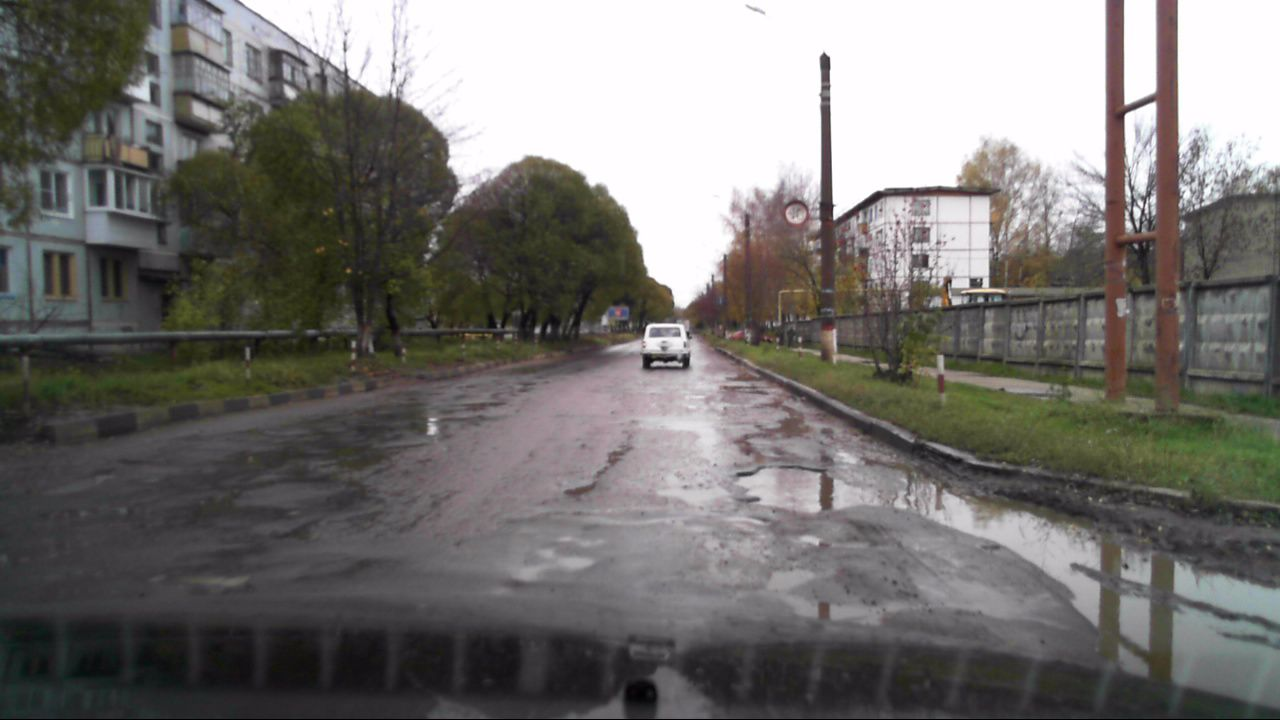speed_warning_40: (783, 200, 809, 226)
